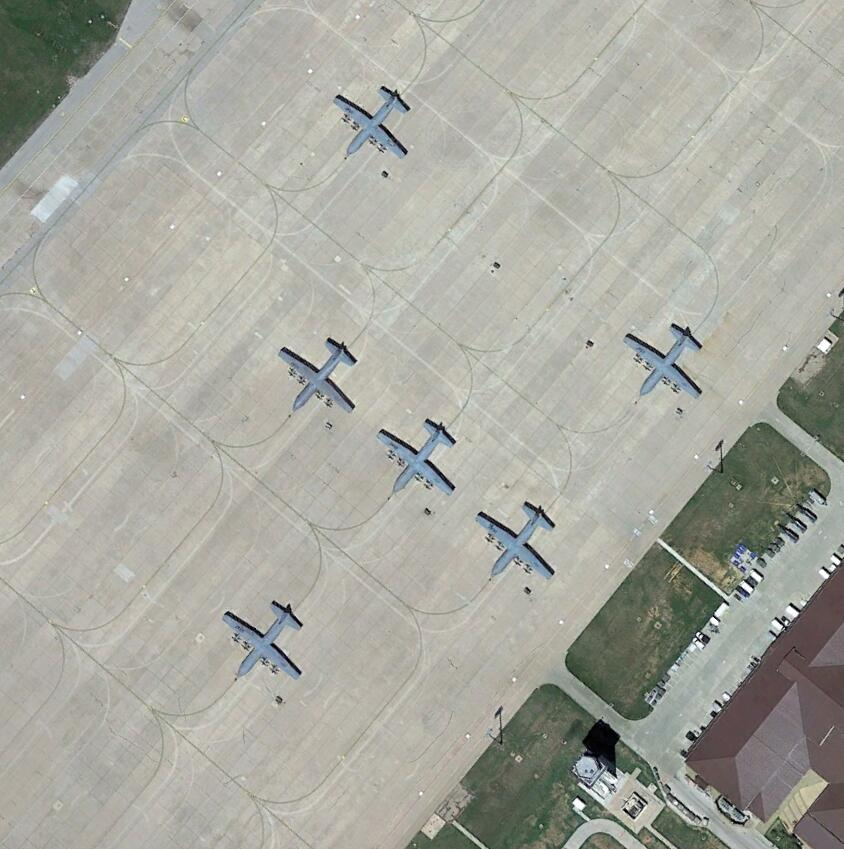A2: (331, 76, 417, 165), (278, 328, 362, 418), (472, 496, 560, 581), (620, 316, 706, 402), (221, 597, 307, 681), (375, 412, 462, 495)
